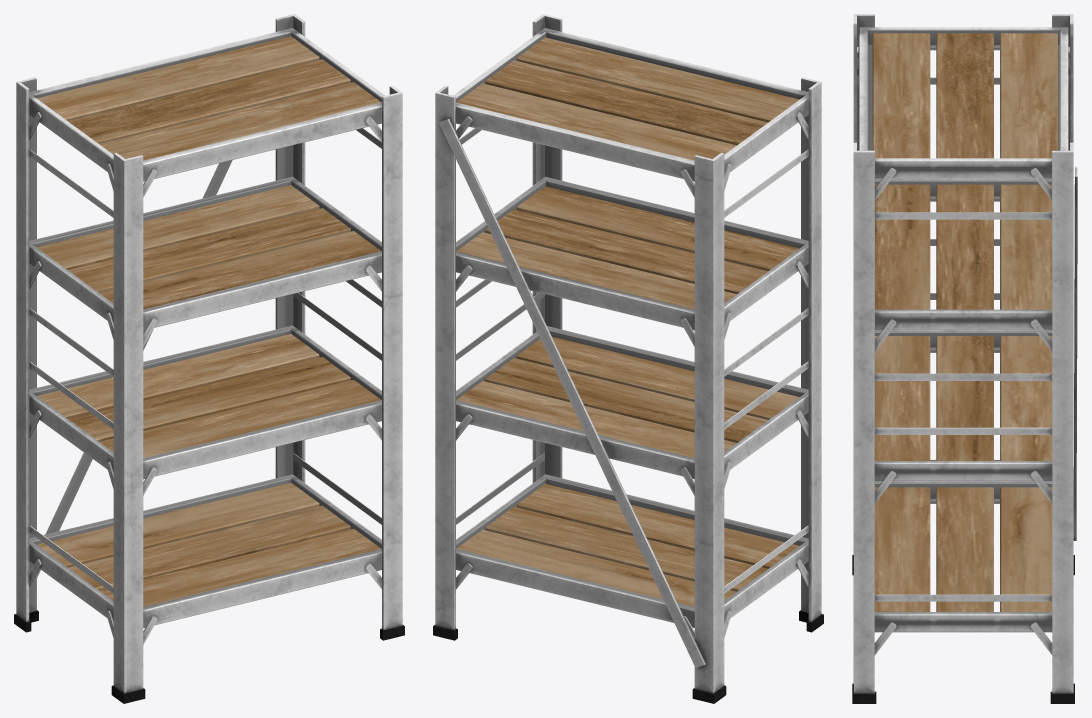
Rendered from rack.glb.
3 views of the same model, side by side, from view 1: azimuth 30°, elevation 25°; view 2: azimuth 150°, elevation 25°; view 3: azimuth 270°, elevation 25° (orthographic).
Visible parts, largest first — view 1: PolkiWood_low, PalkiMetal_low, PolkiMetal_low, SidepaliMetal_low, KrepezhMetal_low, BackpalkaMetal_low; view 2: PolkiWood_low, PalkiMetal_low, PolkiMetal_low, BackpalkaMetal_low, SidepaliMetal_low, KrepezhMetal_low; view 3: PolkiWood_low, PalkiMetal_low, PolkiMetal_low, SidepaliMetal_low, KrepezhMetal_low, BackpalkaMetal_low.
Part boxes in pixels (x1=…): PolkiWood_low: x1=37, y1=36, x2=381, y2=606; PalkiMetal_low: x1=14, y1=14, x2=404, y2=703; PolkiMetal_low: x1=29, y1=28, x2=384, y2=627; SidepaliMetal_low: x1=29, y1=128, x2=381, y2=593; KrepezhMetal_low: x1=29, y1=112, x2=381, y2=644; BackpalkaMetal_low: x1=37, y1=160, x2=232, y2=577; PolkiWood_low: x1=456, y1=37, x2=799, y2=606; PalkiMetal_low: x1=433, y1=14, x2=823, y2=703; PolkiMetal_low: x1=453, y1=28, x2=808, y2=627; BackpalkaMetal_low: x1=439, y1=119, x2=705, y2=667; SidepaliMetal_low: x1=456, y1=128, x2=808, y2=593; KrepezhMetal_low: x1=456, y1=112, x2=808, y2=639; PolkiWood_low: x1=872, y1=33, x2=1057, y2=611; PalkiMetal_low: x1=852, y1=14, x2=1074, y2=703; PolkiMetal_low: x1=859, y1=27, x2=1068, y2=632; SidepaliMetal_low: x1=857, y1=77, x2=1069, y2=601; KrepezhMetal_low: x1=857, y1=47, x2=1069, y2=655; BackpalkaMetal_low: x1=1073, y1=166, x2=1077, y2=540.
Size of the model in its own units: 6.51 by 12.01 by 4.45.
Materials: 1 (1 with a texture image).
